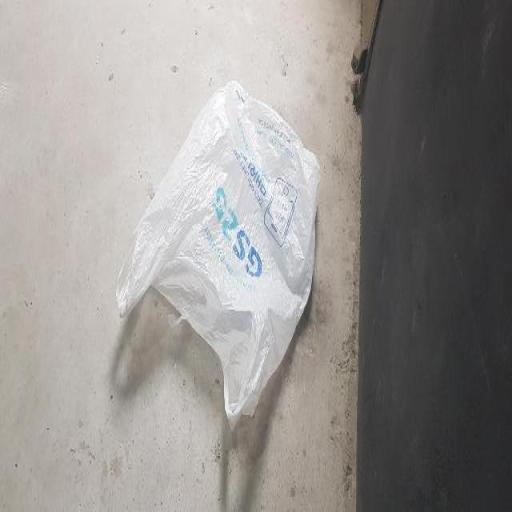plastic-bag: (112, 76, 323, 426)
